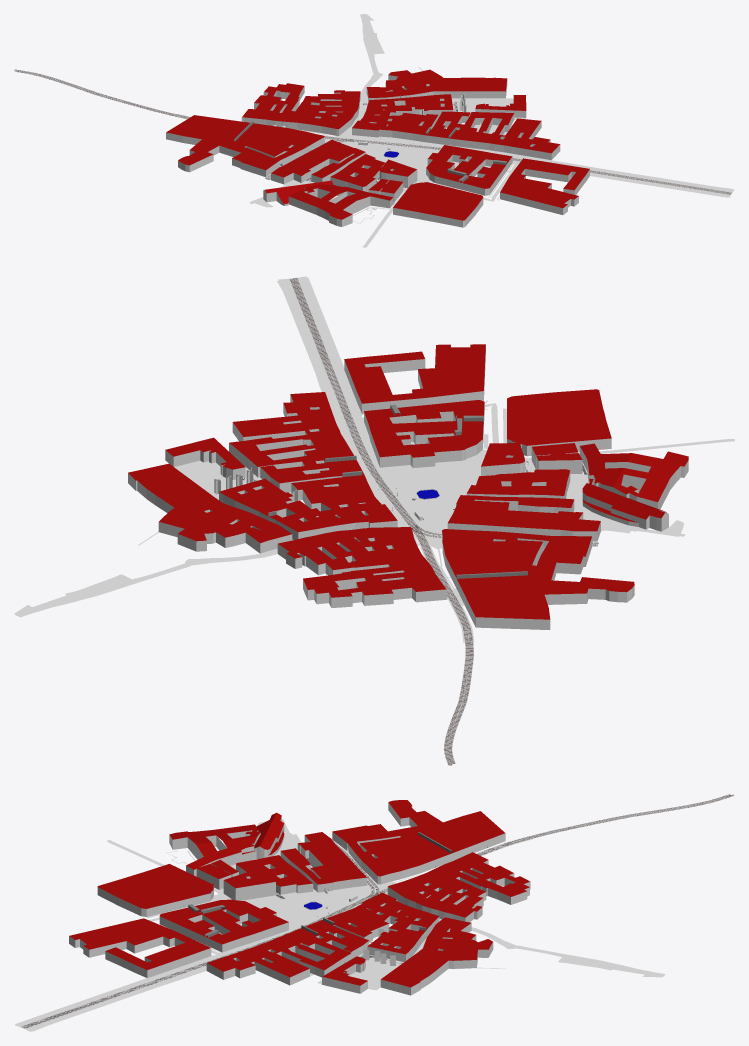
3 views of the same model, one above another, from view 1: azimuth 30°, elevation 25°; view 2: azimuth 150°, elevation 25°; view 3: azimuth 270°, elevation 25° (orthographic). The views are drawn at different scales.
Visible parts, largest first — view 1: Cube; view 2: Cube; view 3: Cube.
Boxes of the visible parts, bbox=[...] form: Cube: bbox=[14, 14, 734, 247]; Cube: bbox=[14, 276, 734, 765]; Cube: bbox=[14, 794, 734, 1031].
Bounding box in the file's own units: 474 × 607 × 13.5.
